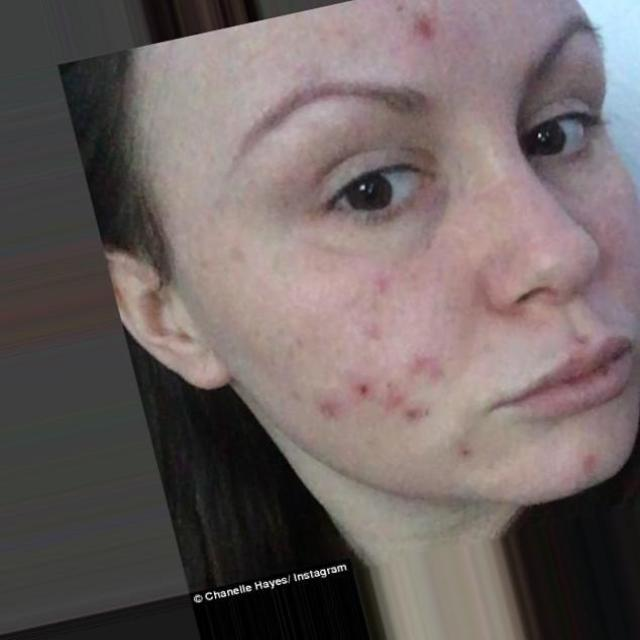acne: (316, 373, 408, 431), (398, 13, 462, 70), (402, 354, 452, 398), (568, 440, 612, 486), (362, 261, 404, 302), (444, 436, 486, 464)
